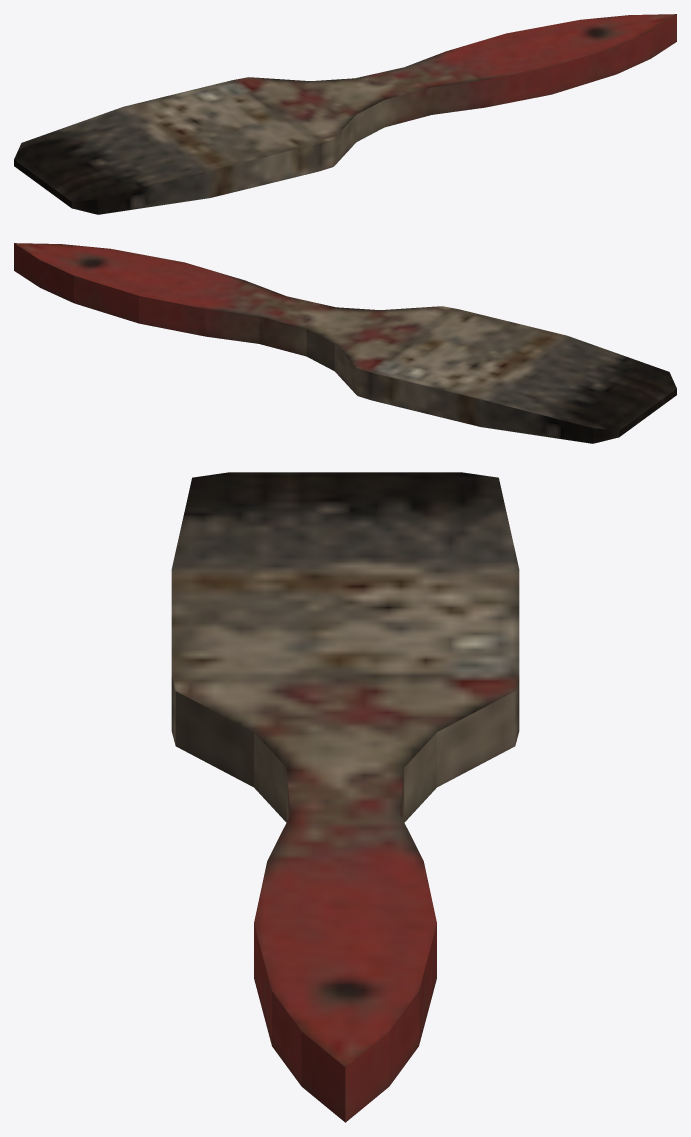
Rendered from paint_brush_mr_1.obj.
3 renders of one model, top to bottom at view 1: azimuth 30°, elevation 25°; view 2: azimuth 150°, elevation 25°; view 3: azimuth 270°, elevation 25°, orthographic. The views are drawn at different scales.
Parts seen in each view (by area): view 1: paint_brush_mr_1; view 2: paint_brush_mr_1; view 3: paint_brush_mr_1.
Boxes of the visible parts, x1=… form: paint_brush_mr_1: x1=14, y1=14, x2=676, y2=214; paint_brush_mr_1: x1=14, y1=243, x2=676, y2=443; paint_brush_mr_1: x1=171, y1=472, x2=519, y2=1122.
Bounding box in the file's own units: 0.36 × 0.015 × 0.0855.
